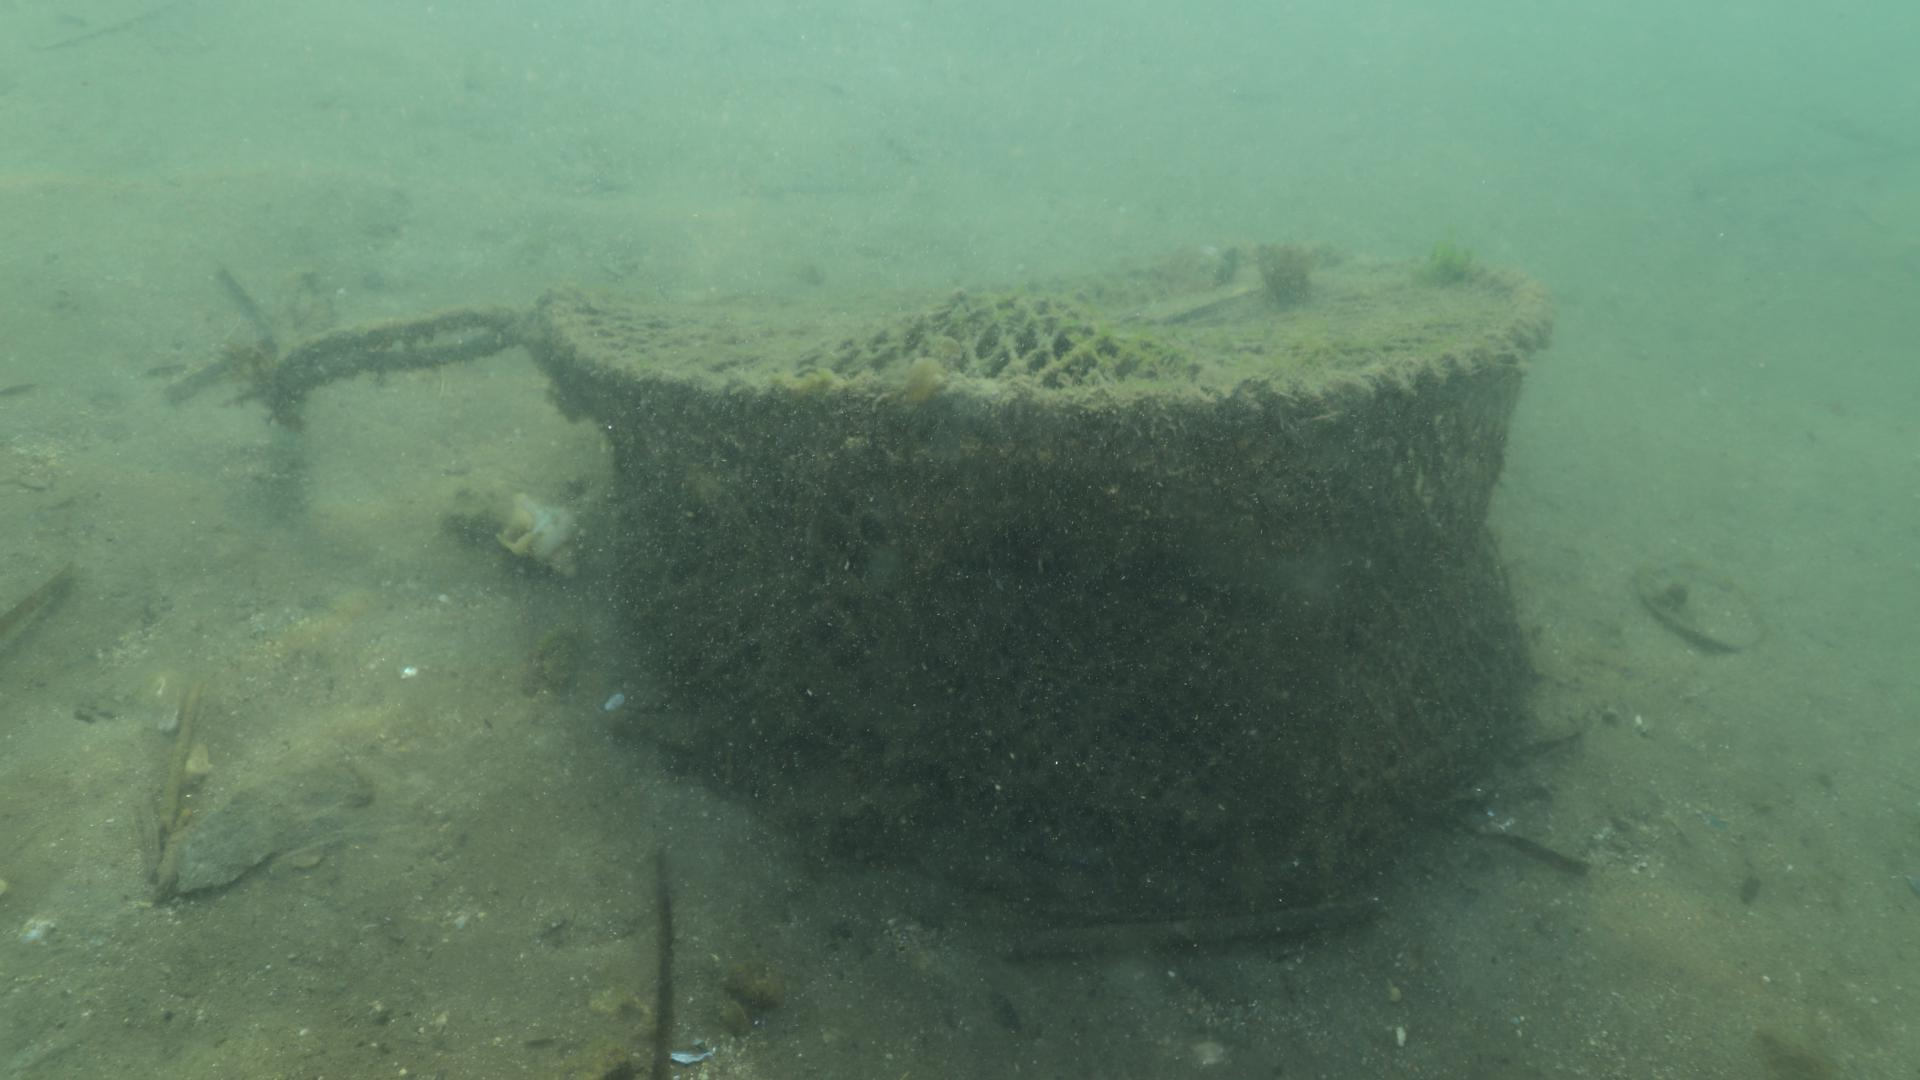bundle of ropes: (268, 266, 525, 400)
circular fish trap: (537, 245, 1555, 914)
